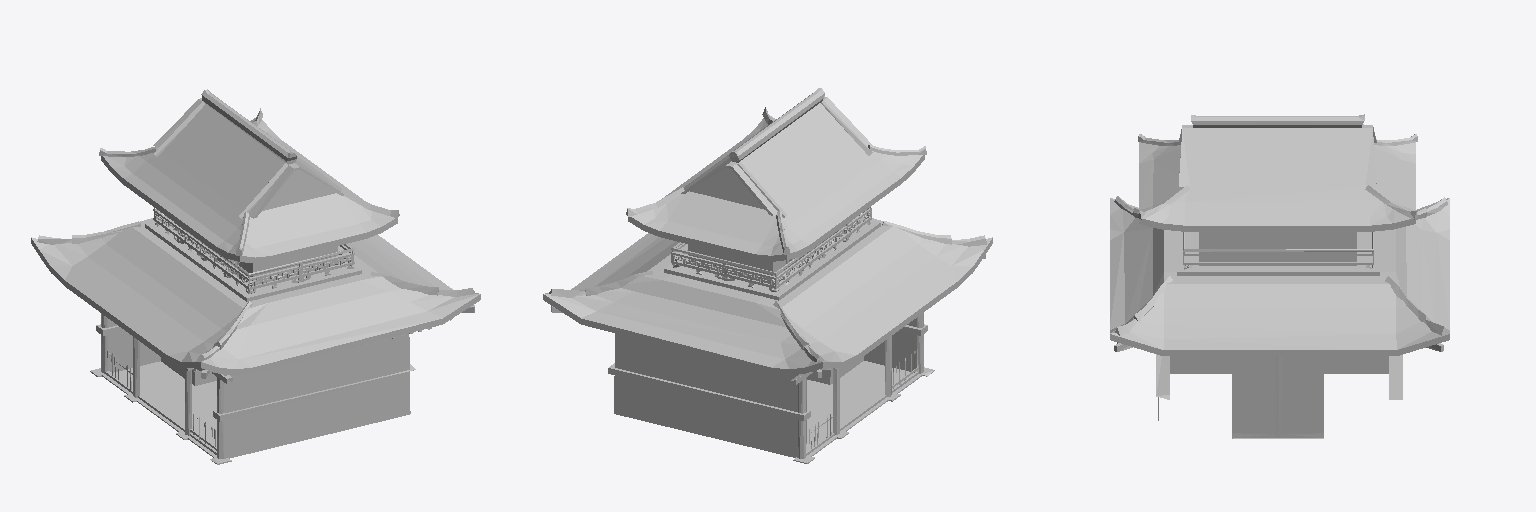
File: samurai_monastry (1).obj
3 views of the same model, side by side, from view 1: azimuth 30°, elevation 25°; view 2: azimuth 150°, elevation 25°; view 3: azimuth 270°, elevation 25° (orthographic).
Size of the model in its own units: 15.63 by 14.63 by 16.48.